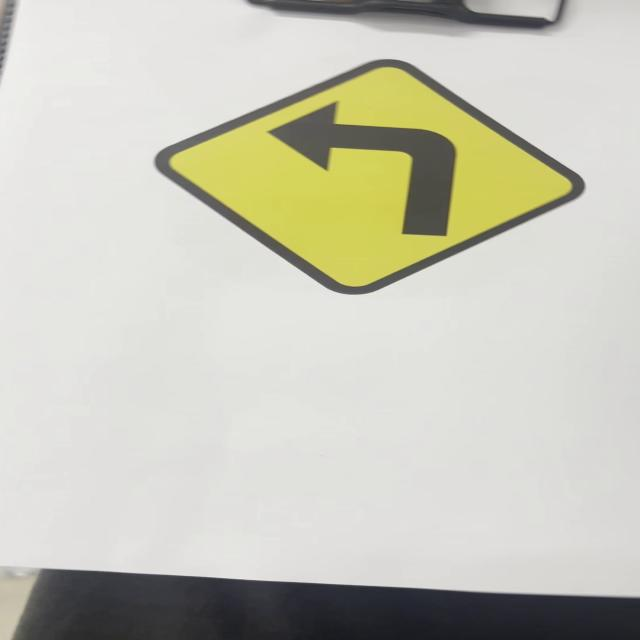left: (152, 61, 583, 296)
